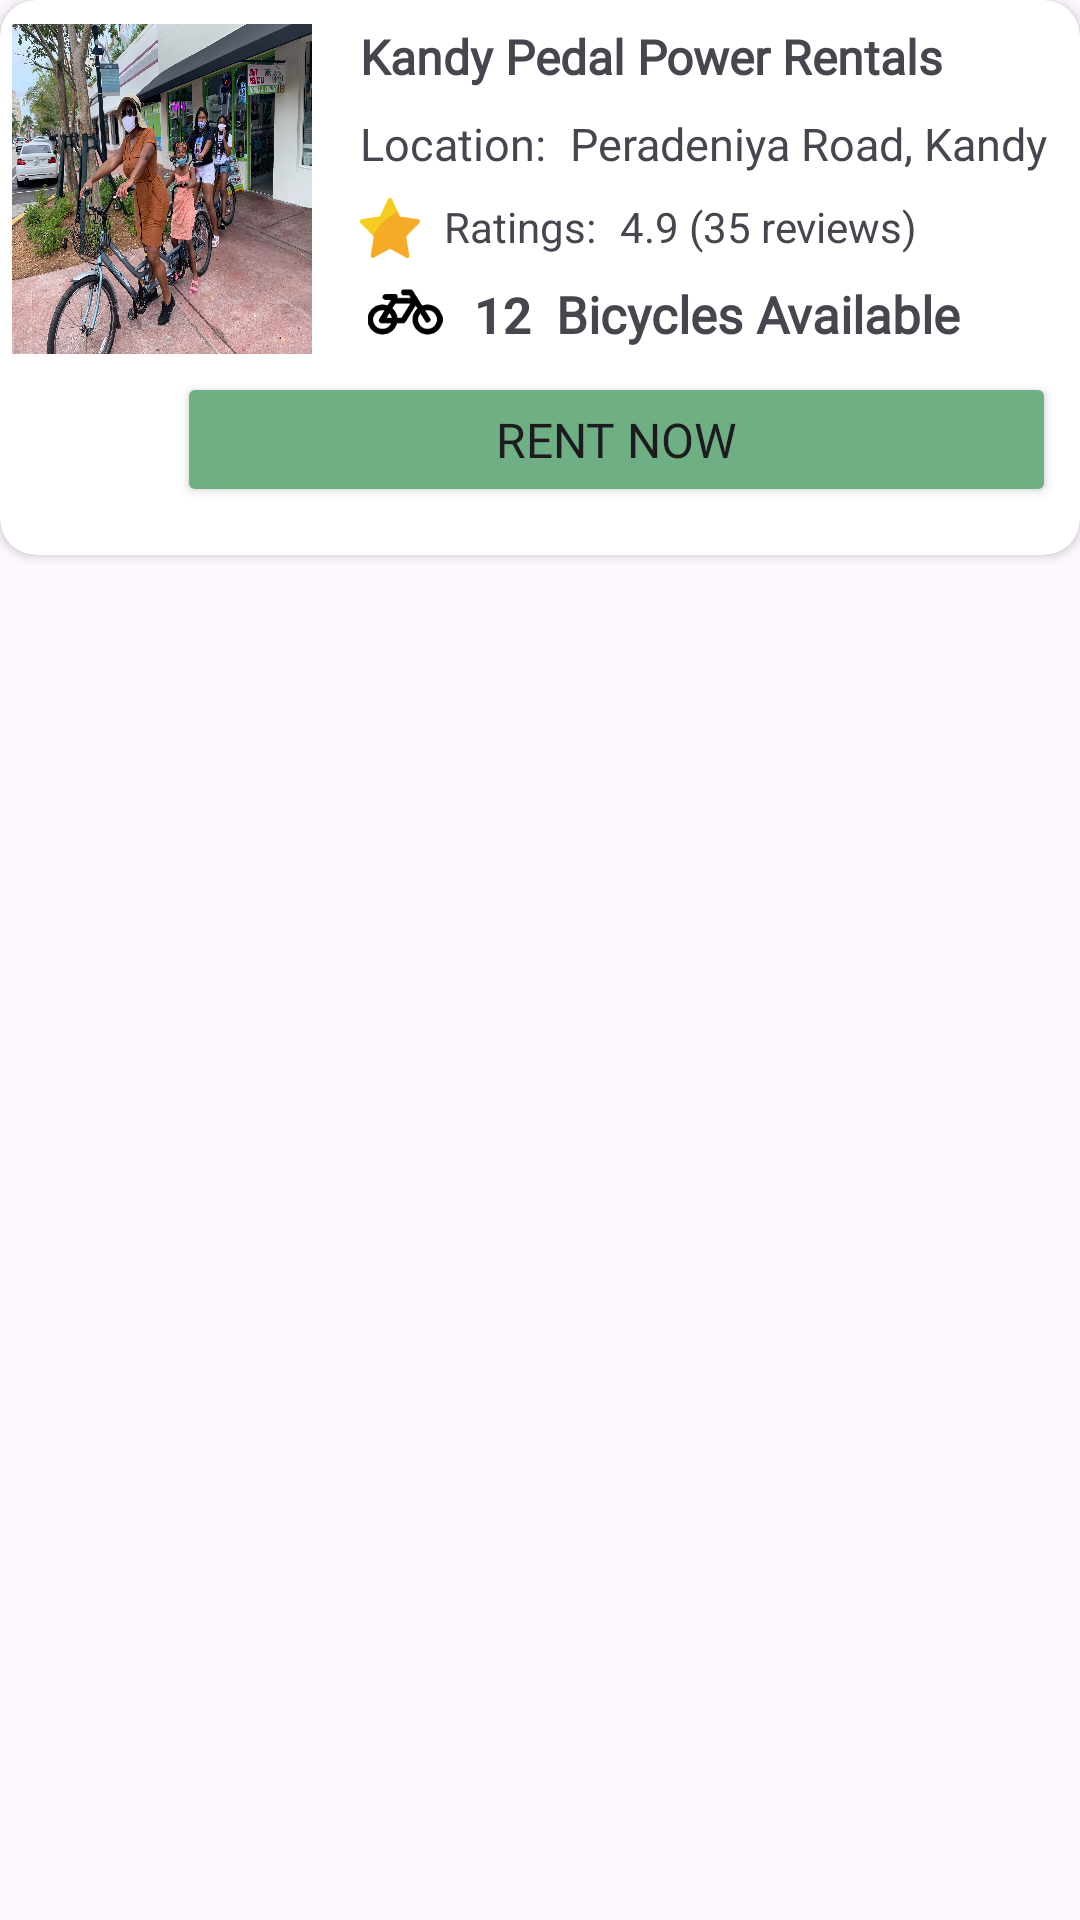

Icons on this 1080px×1920px Android screen, each with its box as (x1, y1, x2, y2):
rental place: (12, 24, 312, 354)
star: (360, 198, 420, 258)
